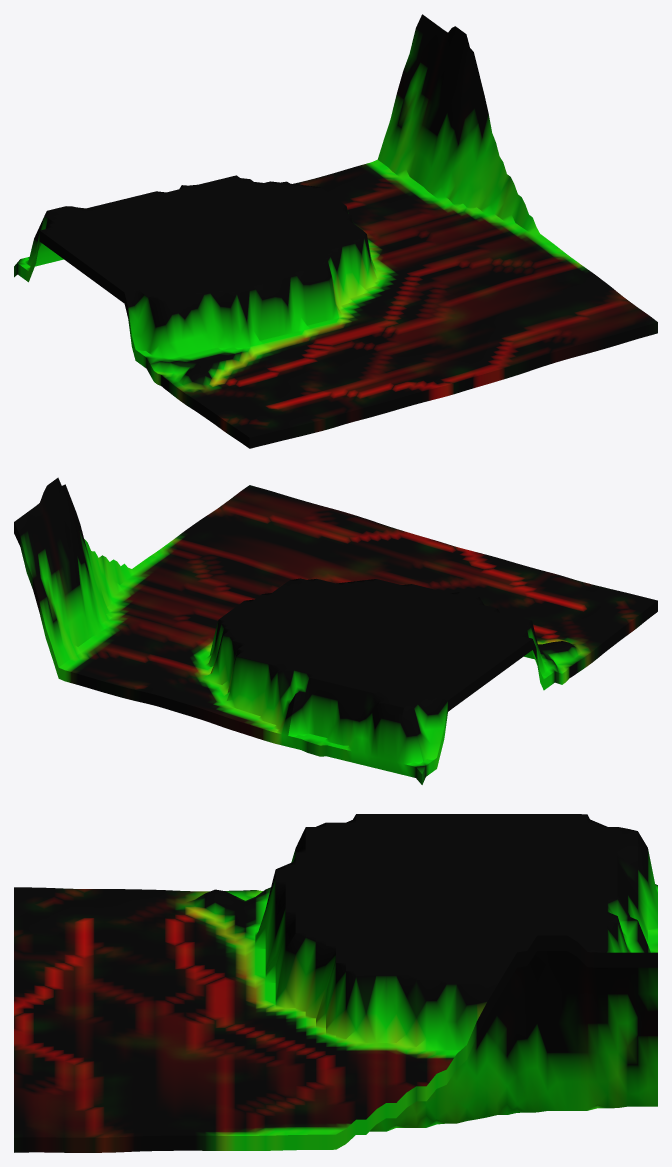
The model's file is Terrain_03_01.fbx.
3 renders of one model, top to bottom at view 1: azimuth 30°, elevation 25°; view 2: azimuth 150°, elevation 25°; view 3: azimuth 270°, elevation 25°, orthographic. The views are drawn at different scales.
Parts seen in each view (by area): view 1: Terrain_03_01_LOD0; view 2: Terrain_03_01_LOD0; view 3: Terrain_03_01_LOD0.
Part boxes in pixels (bbox=[...]): Terrain_03_01_LOD0: bbox=[14, 14, 657, 448]; Terrain_03_01_LOD0: bbox=[14, 477, 657, 784]; Terrain_03_01_LOD0: bbox=[14, 814, 657, 1152].
Size of what is drawn, in the model's own units: 384 by 160 by 384.
